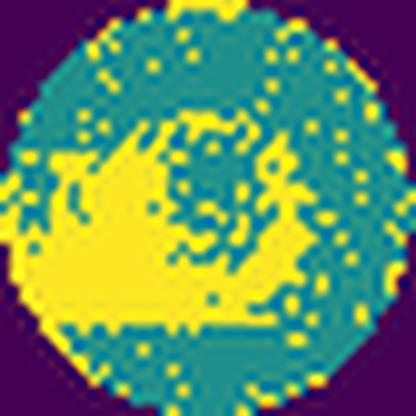Donut: (12, 99, 331, 334)
